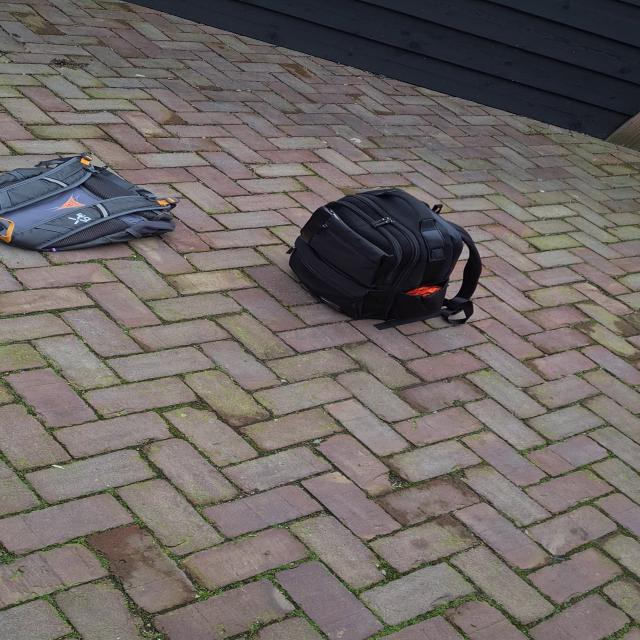backpack: (276, 184, 484, 326), (0, 153, 187, 253)
